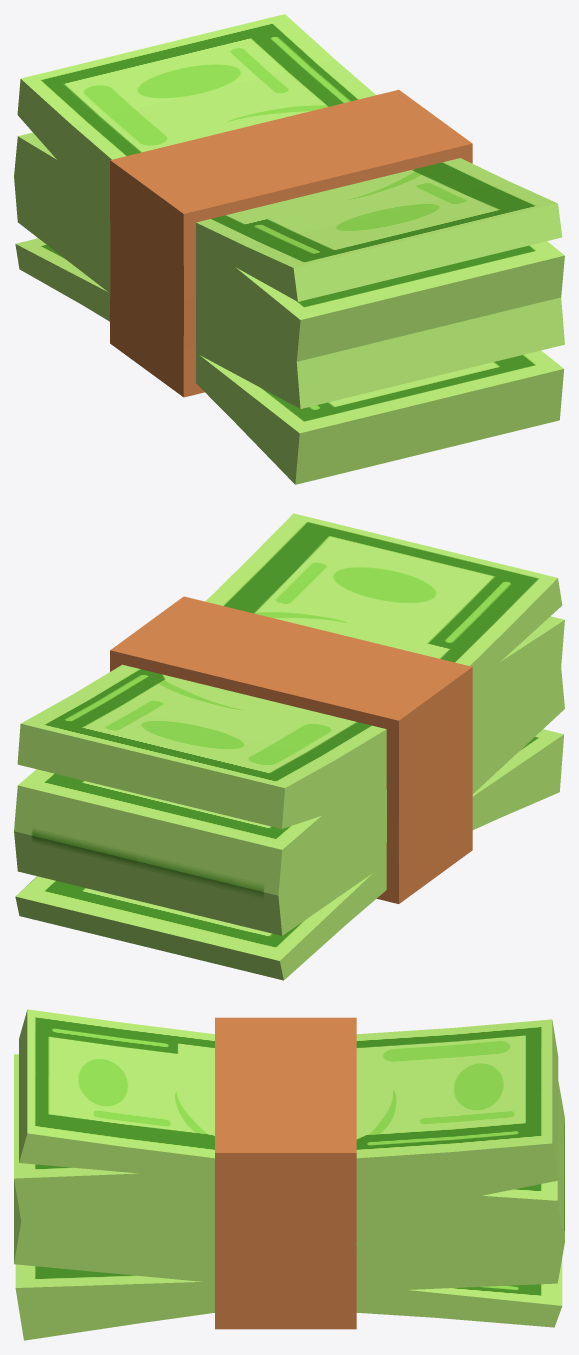
File: money_bulk.fbx
3 renders of one model, top to bottom at view 1: azimuth 30°, elevation 25°; view 2: azimuth 150°, elevation 25°; view 3: azimuth 270°, elevation 25°, orthographic. The views are drawn at different scales.
Visible parts, largest first — view 1: money_bulk; view 2: money_bulk; view 3: money_bulk.
Part boxes in pixels (left/top/right/bottom): money_bulk: left=14, top=14, right=564, bottom=484; money_bulk: left=14, top=513, right=564, bottom=980; money_bulk: left=14, top=1009, right=564, bottom=1340.
Bounding box in the file's own units: 118 × 84.15 × 203.
Materials: 2 (1 with a texture image).
